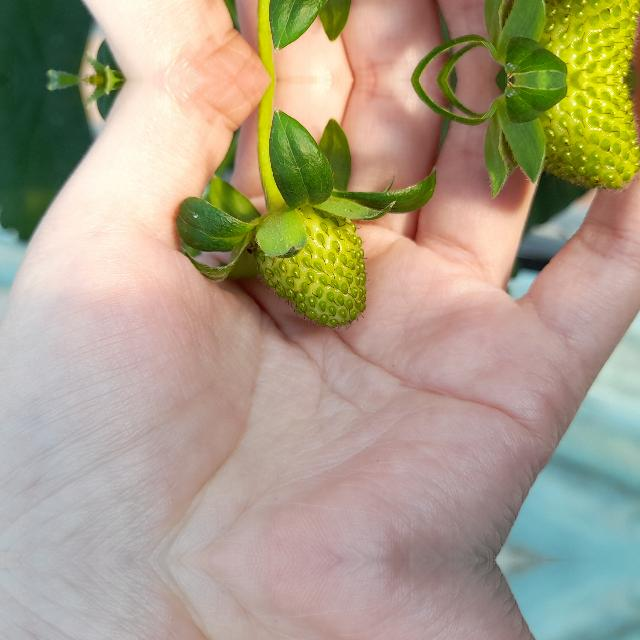Health_25: (254, 201, 366, 329), (523, 80, 639, 196), (523, 0, 639, 80)
